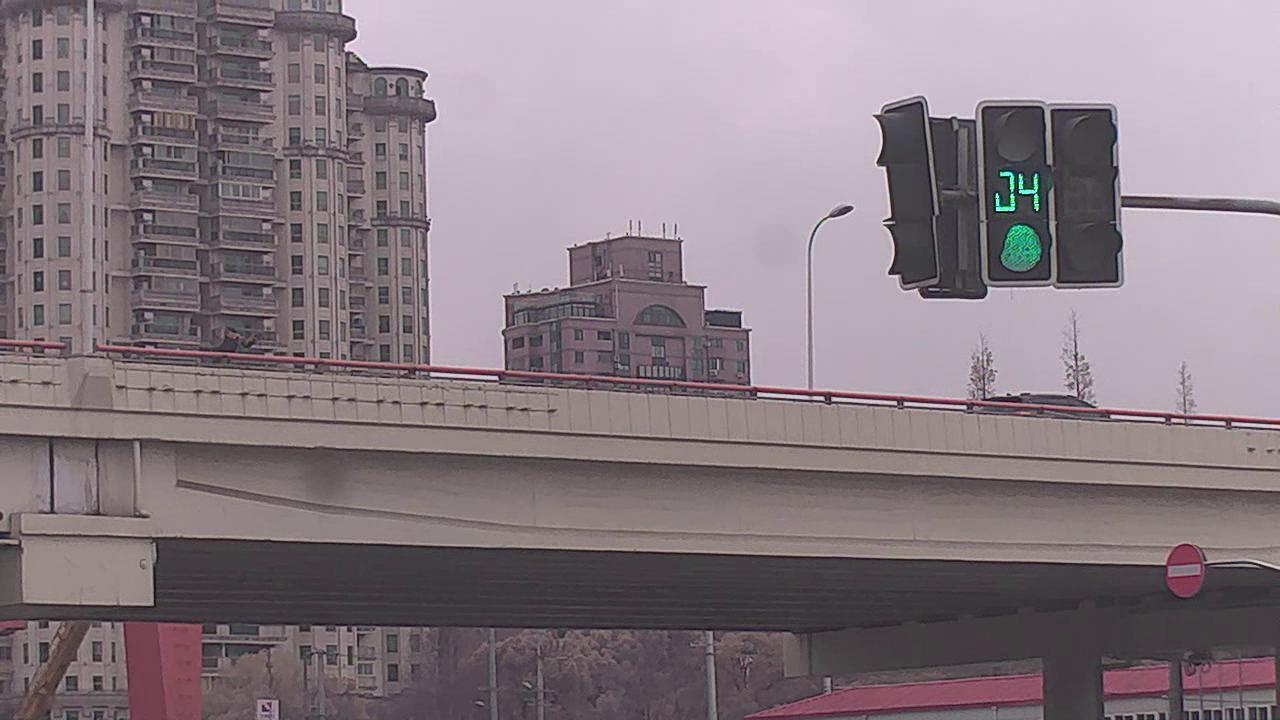traffic_light: (1049, 104, 1123, 288), (980, 99, 1051, 286)
